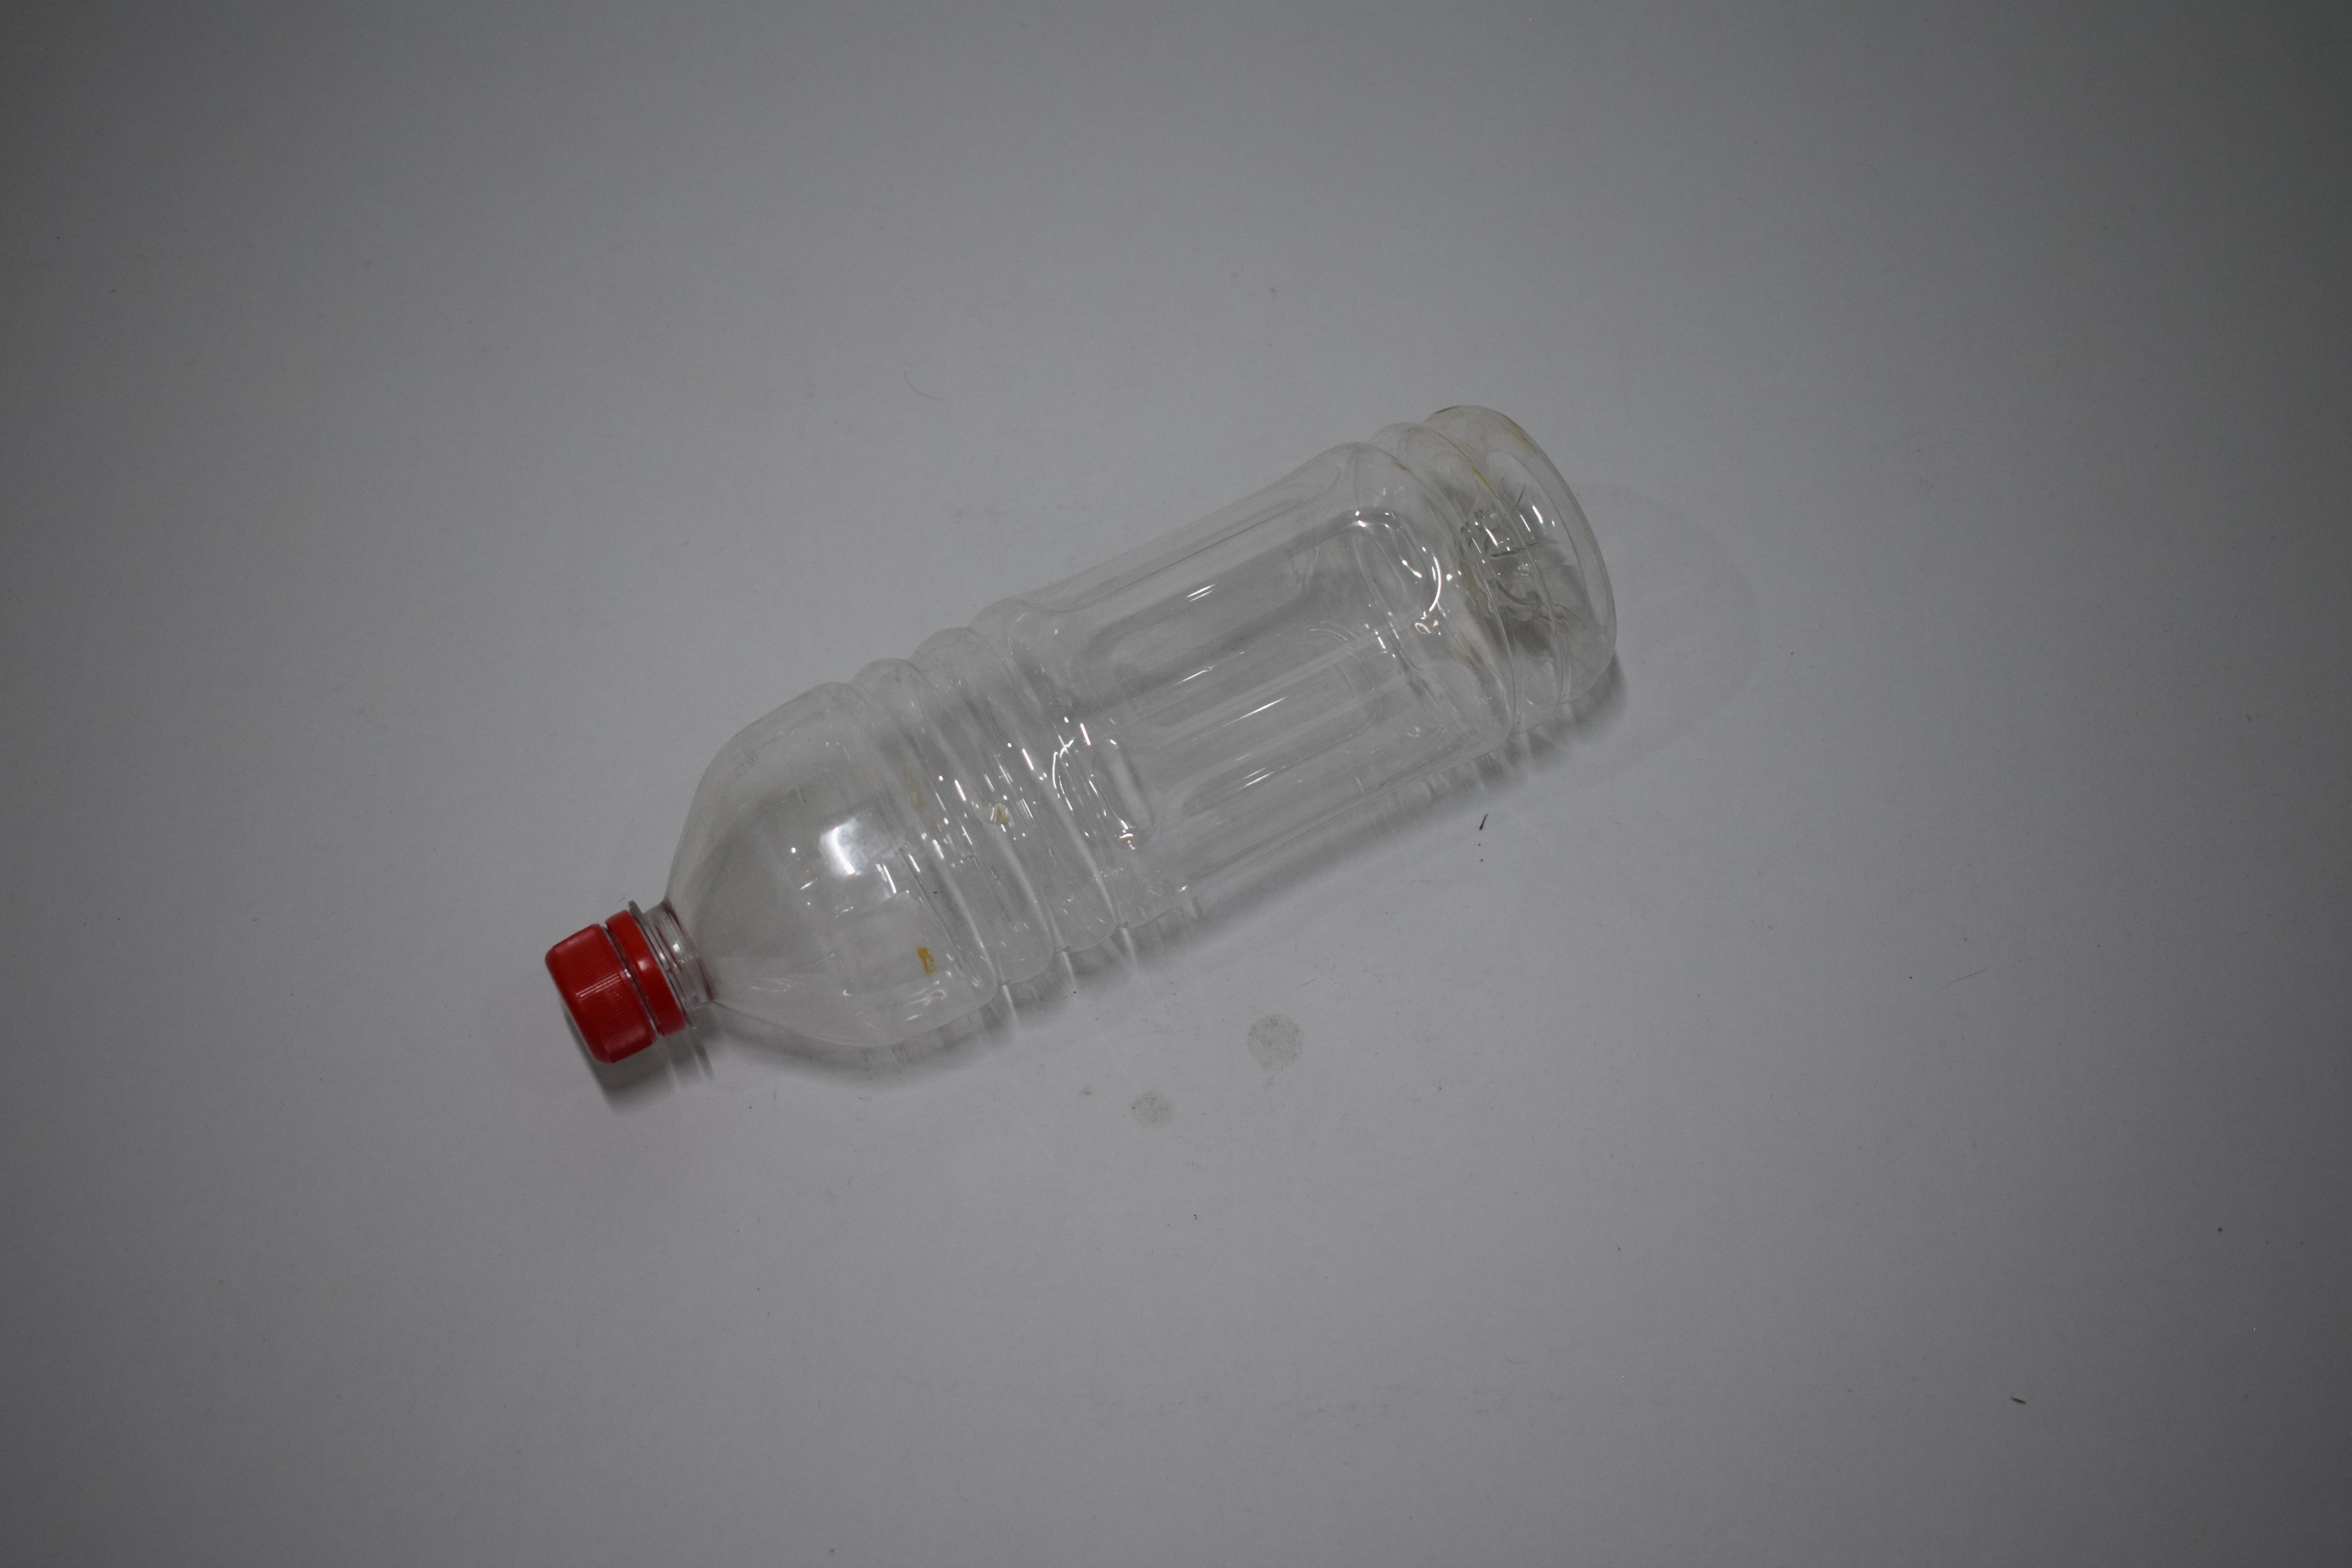bottle: (604, 395, 1565, 1069)
